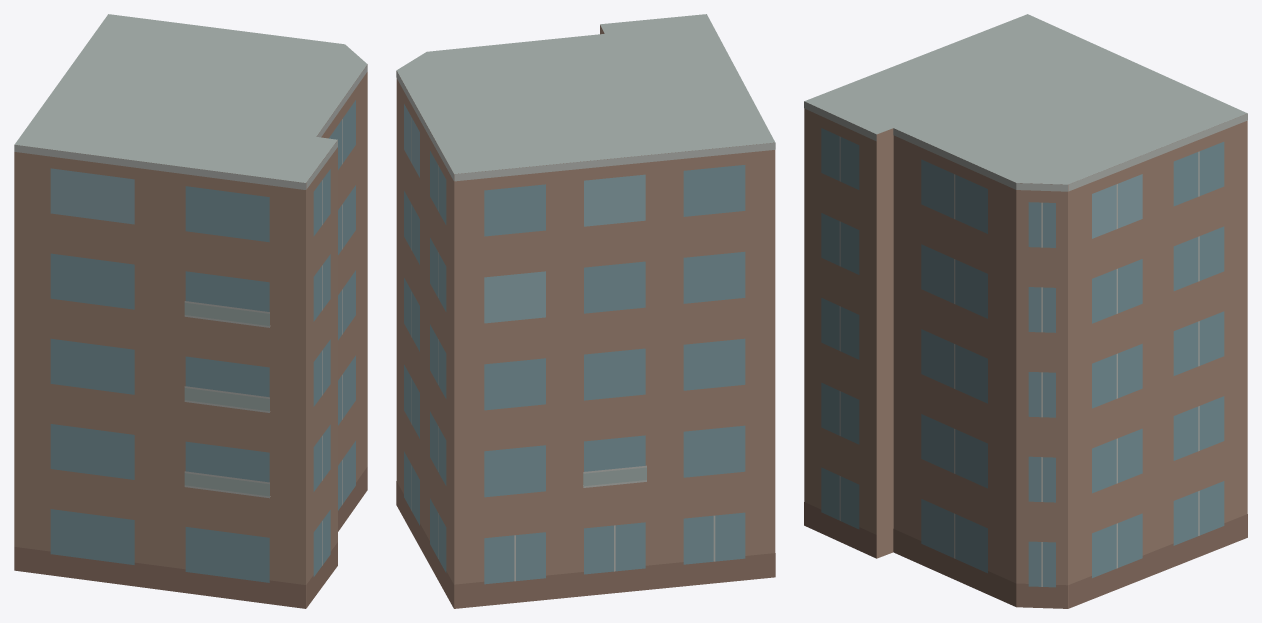
The model's file is survey-upis-33008185.glb.
3 views of the same model, side by side, from view 1: azimuth 30°, elevation 25°; view 2: azimuth 150°, elevation 25°; view 3: azimuth 270°, elevation 25° (orthographic). The views are drawn at different scales.
Visible parts, largest first — view 1: survey-upis-33008185.tmp; view 2: survey-upis-33008185.tmp; view 3: survey-upis-33008185.tmp.
Boxes of the visible parts, box(x1,y1,x2,y2) form: survey-upis-33008185.tmp: box(14, 14, 367, 608); survey-upis-33008185.tmp: box(396, 14, 775, 608); survey-upis-33008185.tmp: box(804, 14, 1247, 608).
Bounding box in the file's own units: 12.6 × 14.6 × 13.84.
